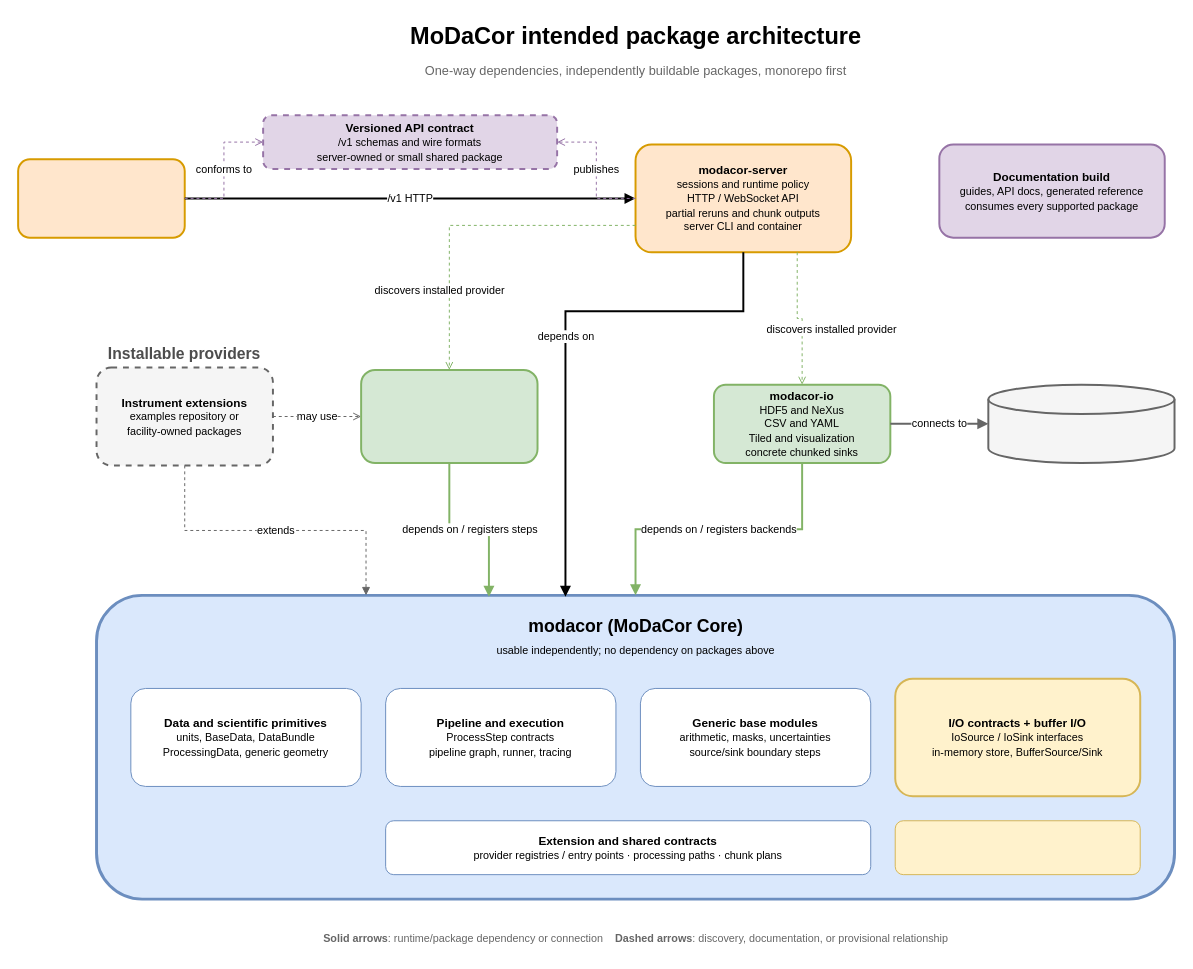
Image size: 1193x969. Some labels were removed from this diagram. Each missing label, with the centre of its shape:
"Core-only E2E: BufferSource → base steps → BufferSink" goes at [1017,847].
"External storage/services filesystems, HDF5, Tiled" goes at [1081,423].
"modacor-client HTTP transport session and buffer clients remote CLI" goes at [101,198].
"modacor-scattering technique modules scattering helpers attenuation models" goes at [449,416].
